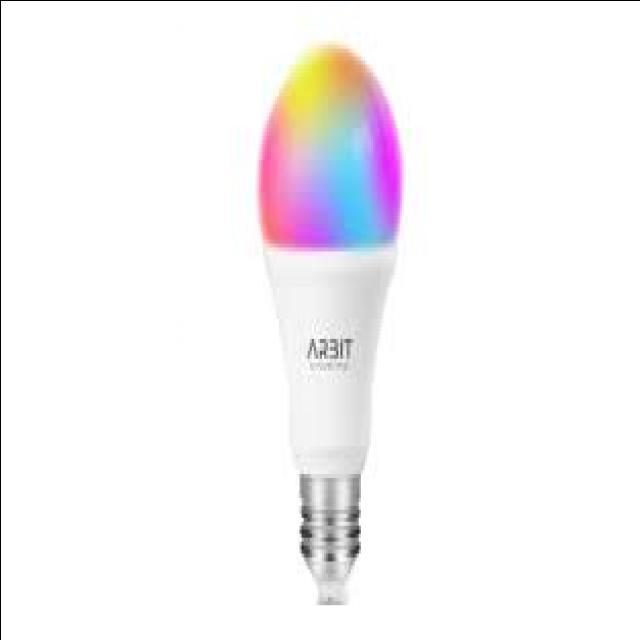light_bulb: (250, 32, 410, 616)
